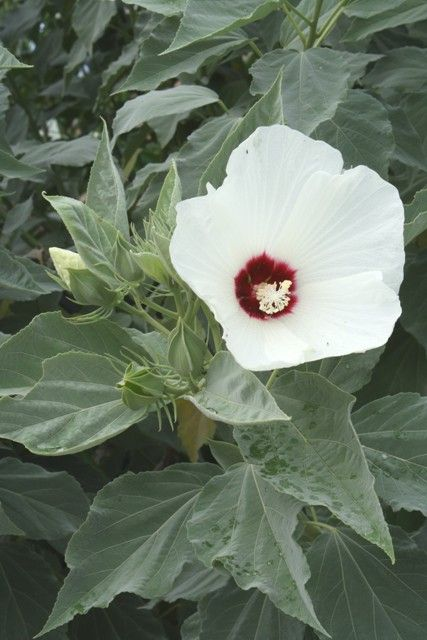Hibiscus: (165, 122, 426, 367), (35, 231, 124, 320)
